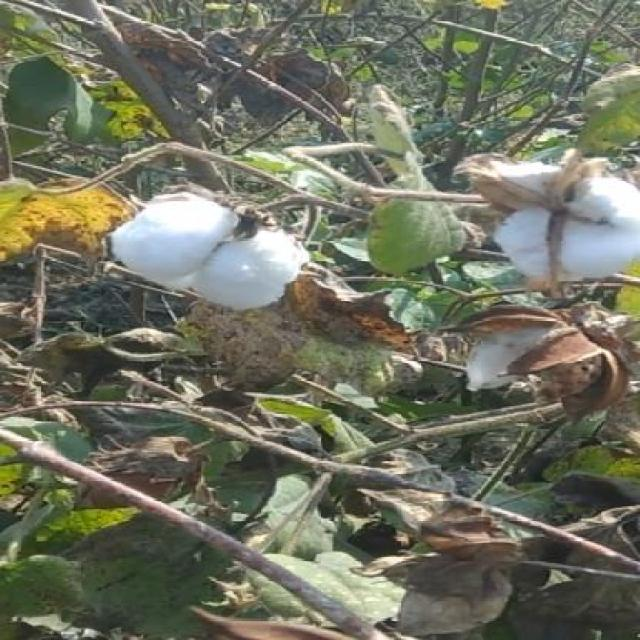cotton_ready: (93, 183, 319, 306), (442, 153, 640, 278)
